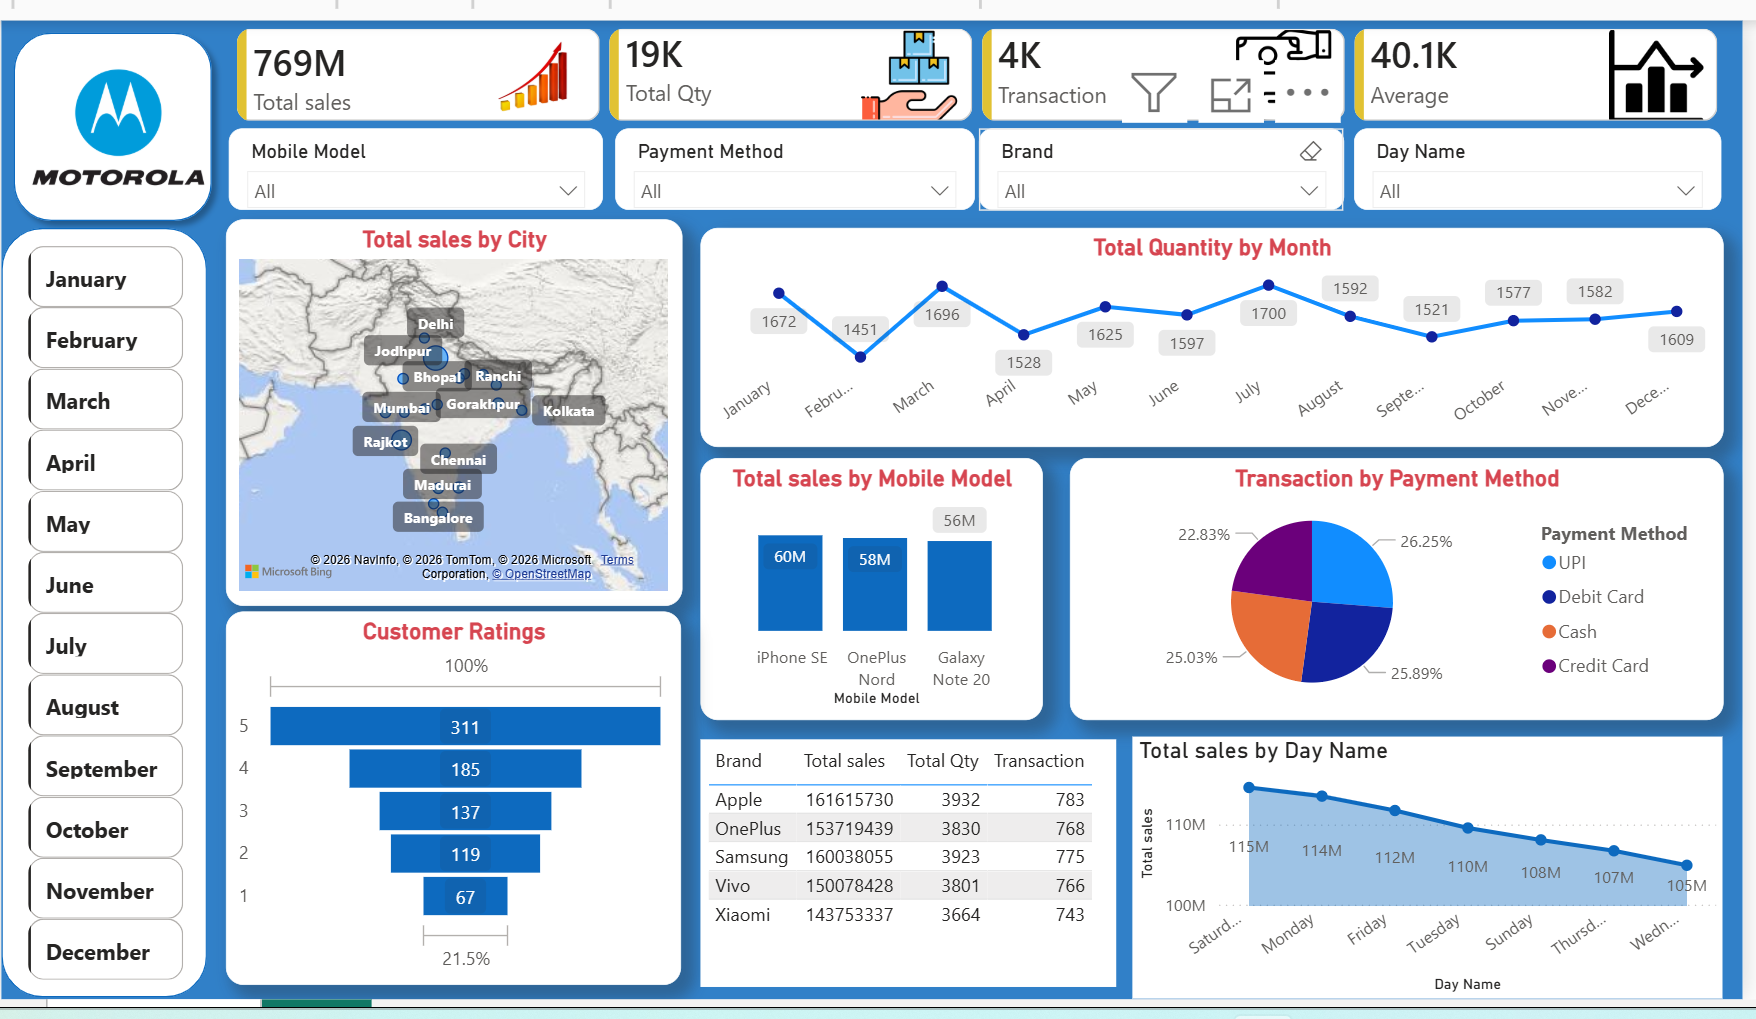

What the dashboard file says about the page in this screenshot:
{"tool":"powerbi","page":{"name":"Page 1","canvas":[1280,720],"ordinal":0},"visuals":[{"type":"shape","box":[0,0,163.8,156.6],"z":0},{"type":"image","box":[17.8,10.7,131.7,137.1],"z":1000},{"type":"shape","box":[0,153.1,151.3,566.1],"z":2000},{"type":"advancedSlicerVisual","fields":{"Values":["Sheet1.Date.Variation.Date Hierarchy.Month"]},"box":[14.2,160.2,124.6,550],"z":3000},{"type":"cardVisual","fields":{"Data":["Sales_Data.Total sales","Sales_Data.Total Qty","Sales_Data.Transaction","Sales_Data.Average"]},"box":[166.7,0,1103.3,80],"z":4000},{"type":"map","fields":{"Category":["Sales_Data.City"],"Size":["Sales_Data.Total sales"]},"box":[164.3,147.1,335.7,284.3],"z":5000},{"type":"lineChart","fields":{"Category":["Sales_Data.Date.Variation.Date Hierarchy.Month","Sales_Data.Date.Variation.Date Hierarchy.Day"],"Y":["Sales_Data.Total Qty"]},"box":[513.8,152.5,752.5,161.2],"z":6000},{"type":"clusteredColumnChart","fields":{"Category":["Sales_Data.Mobile Model"],"Y":["Sales_Data.Total sales"]},"box":[513.3,322.4,252.2,192.7],"z":7000},{"type":"pieChart","fields":{"Category":["Sales_Data.Payment Method"],"Y":["Sales_Data.Transaction"]},"box":[785.3,322.4,480.9,192.7],"z":8000},{"type":"funnel","title":" Customer Ratings ","fields":{"Category":["Sales_Data.Customer Ratings"],"Y":["CountNonNull(Sales_Data.Customer Ratings)"]},"box":[165,435,335,275],"z":9000},{"type":"stackedAreaChart","fields":{"Category":["Sales_Data.Day Name"],"Y":["Sales_Data.Total sales"]},"box":[831.4,527.1,434.3,192.9],"z":10000},{"type":"tableEx","fields":{"Values":["Sales_Data.Brand","Sales_Data.Total sales","Sales_Data.Total Qty","Sales_Data.Transaction"]},"box":[514,528,306,182],"z":11000},{"type":"slicer","fields":{"Values":["Sales_Data.Mobile Model"]},"box":[167.3,80,275.5,60],"z":12000},{"type":"slicer","fields":{"Values":["Sales_Data.Payment Method"]},"box":[450.9,80,264.5,60],"z":13000},{"type":"slicer","fields":{"Values":["Sales_Data.Brand"]},"box":[718.8,80,268.8,60],"z":14000},{"type":"slicer","fields":{"Values":["Sales_Data.Day Name"]},"box":[994,80,270,60],"z":15000}]}

Visuals, with their boxes in screenshot pixels (x1, y1, x2, y2):
shape: l=0, t=14, r=222, b=226
image: l=24, t=28, r=202, b=214
shape: l=0, t=221, r=205, b=987
advancedSlicerVisual - Sheet1.Date.Variation.Date Hierarchy.Month: l=19, t=230, r=188, b=975
cardVisual - Sales_Data.Total sales x Sales_Data.Total Qty: l=226, t=14, r=1718, b=122
map - Sales_Data.City x Sales_Data.Total sales: l=222, t=213, r=676, b=597
lineChart - Sales_Data.Date.Variation.Date Hierarchy.Month x Sales_Data.Date.Variation.Date Hierarchy.Day: l=695, t=220, r=1713, b=438
clusteredColumnChart - Sales_Data.Mobile Model x Sales_Data.Total sales: l=694, t=450, r=1036, b=711
pieChart - Sales_Data.Payment Method x Sales_Data.Transaction: l=1062, t=450, r=1713, b=711
" Customer Ratings " funnel: l=223, t=602, r=676, b=974
stackedAreaChart - Sales_Data.Day Name x Sales_Data.Total sales: l=1125, t=727, r=1712, b=988
tableEx - Sales_Data.Brand x Sales_Data.Total sales: l=695, t=728, r=1109, b=974
slicer - Sales_Data.Mobile Model: l=226, t=122, r=599, b=203
slicer - Sales_Data.Payment Method: l=610, t=122, r=968, b=203
slicer - Sales_Data.Brand: l=972, t=122, r=1336, b=203
slicer - Sales_Data.Day Name: l=1345, t=122, r=1710, b=203
